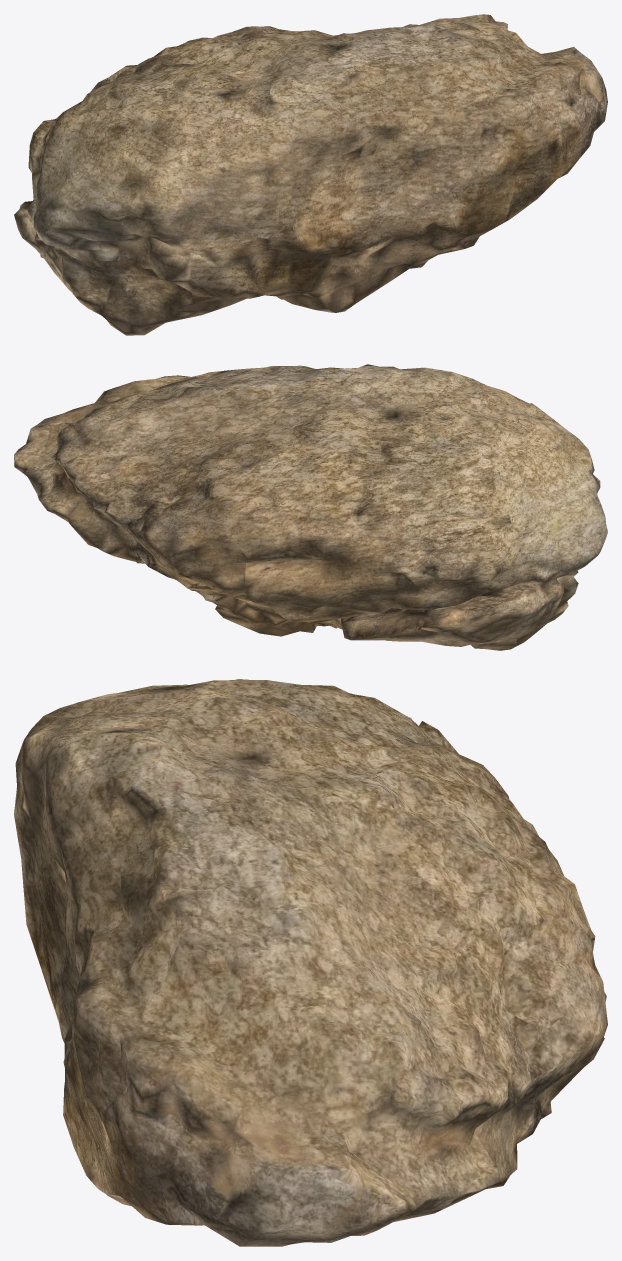
The model's file is assets__ph__namaqualand_boulder_05.glb.
3 views of the same model, one above another, from view 1: azimuth 30°, elevation 25°; view 2: azimuth 150°, elevation 25°; view 3: azimuth 270°, elevation 25° (orthographic). The views are drawn at different scales.
Visible parts, largest first — view 1: namaqualand_boulder_05; view 2: namaqualand_boulder_05; view 3: namaqualand_boulder_05.
Part boxes in pixels (x1=…): namaqualand_boulder_05: x1=14, y1=14, x2=607, y2=335; namaqualand_boulder_05: x1=14, y1=364, x2=607, y2=650; namaqualand_boulder_05: x1=14, y1=679, x2=607, y2=1246.
Bounding box in the file's own units: 1.36 × 0.536 × 0.7454.
1 material, 1 textured.
